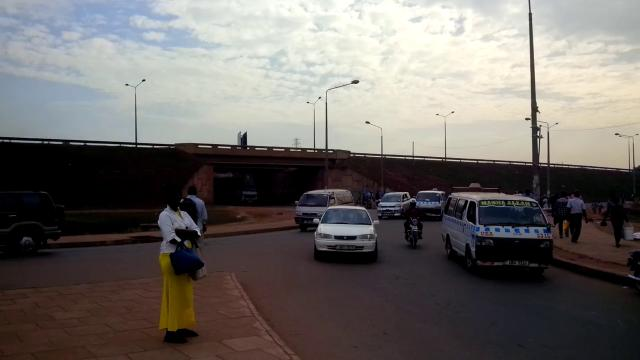car: (311, 206, 378, 259), (376, 191, 412, 219)
motorcycle: (404, 208, 423, 247)
van: (440, 182, 555, 272), (294, 188, 353, 230), (414, 189, 447, 220)
